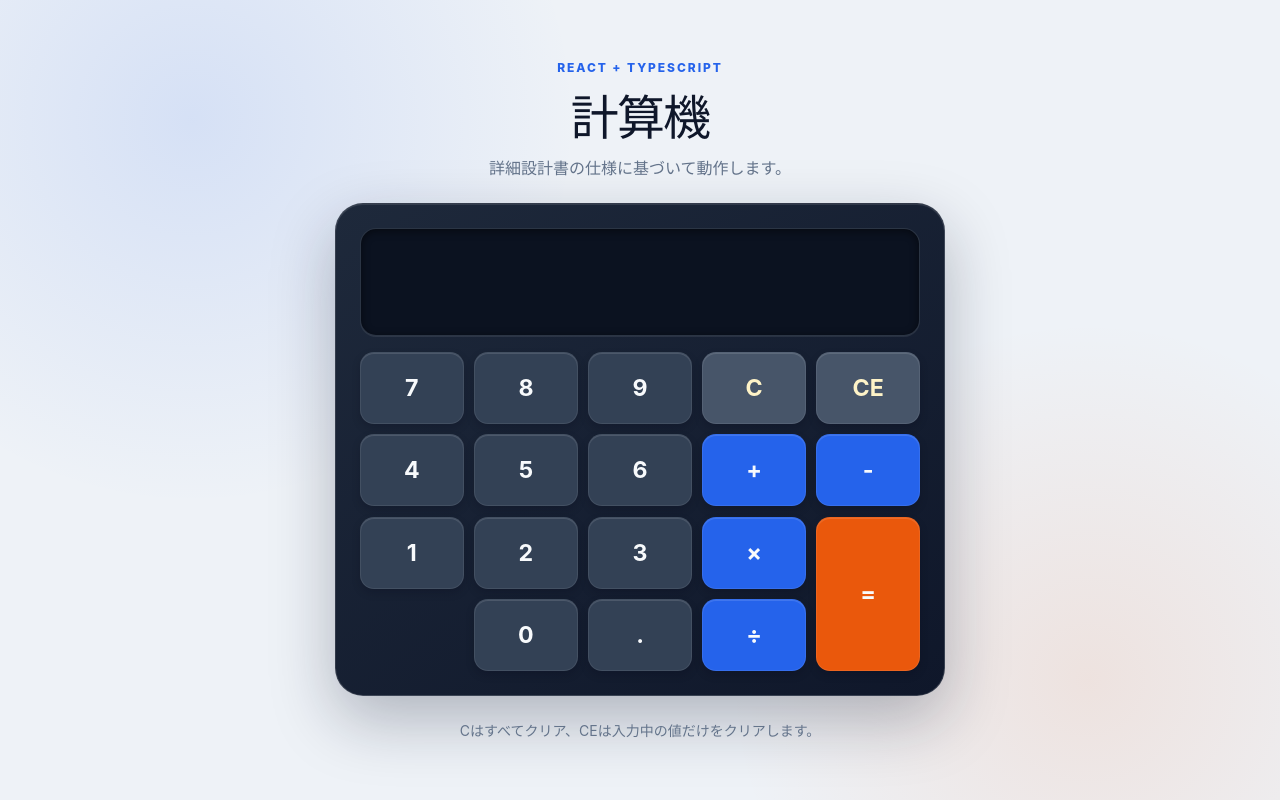
Test case: calculator application › 数字と加算を画面操作できる
Click the button named "数字1" at (412, 553), box left=360, top=517, right=464, bottom=589
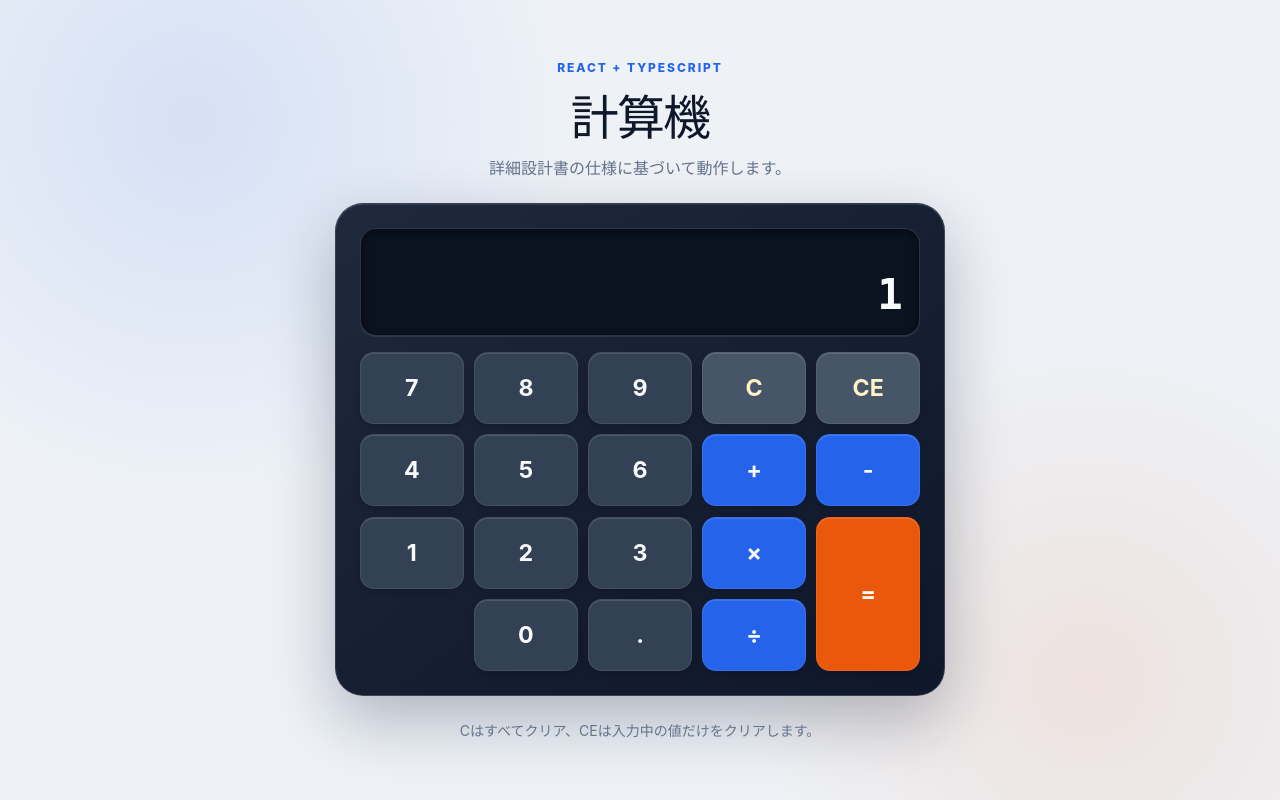
Click the button named "加算" at (754, 470), box left=702, top=434, right=806, bottom=506
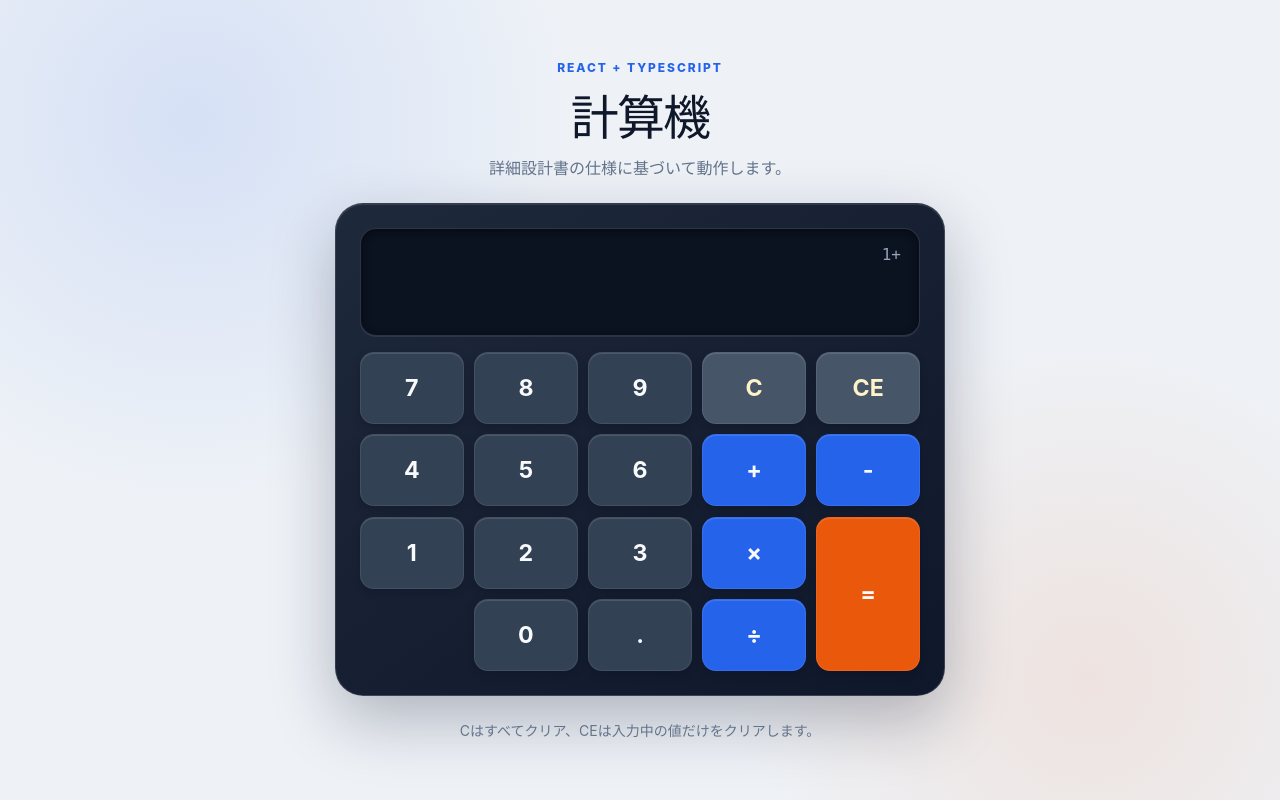
Click the button named "数字2" at (526, 553), box left=474, top=517, right=578, bottom=589
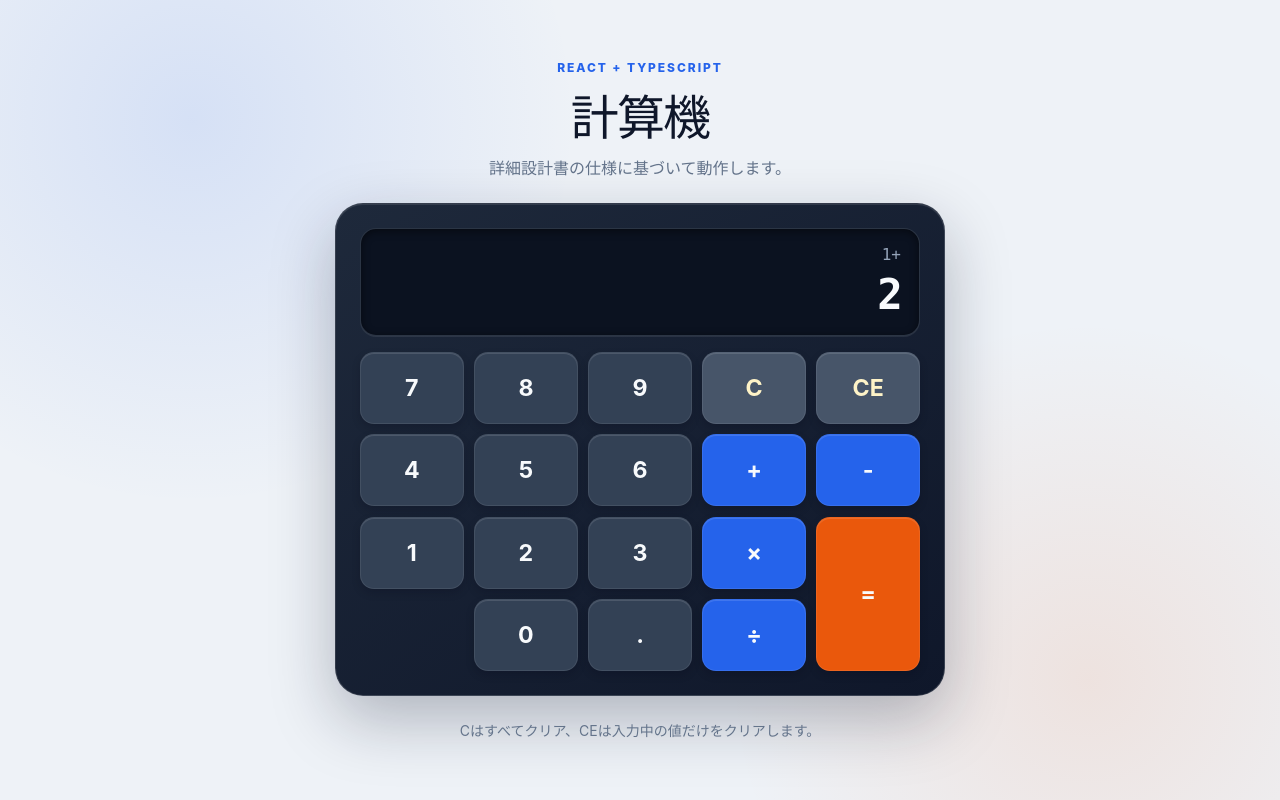
Click the button named "計算" at (868, 594), box left=816, top=517, right=920, bottom=671
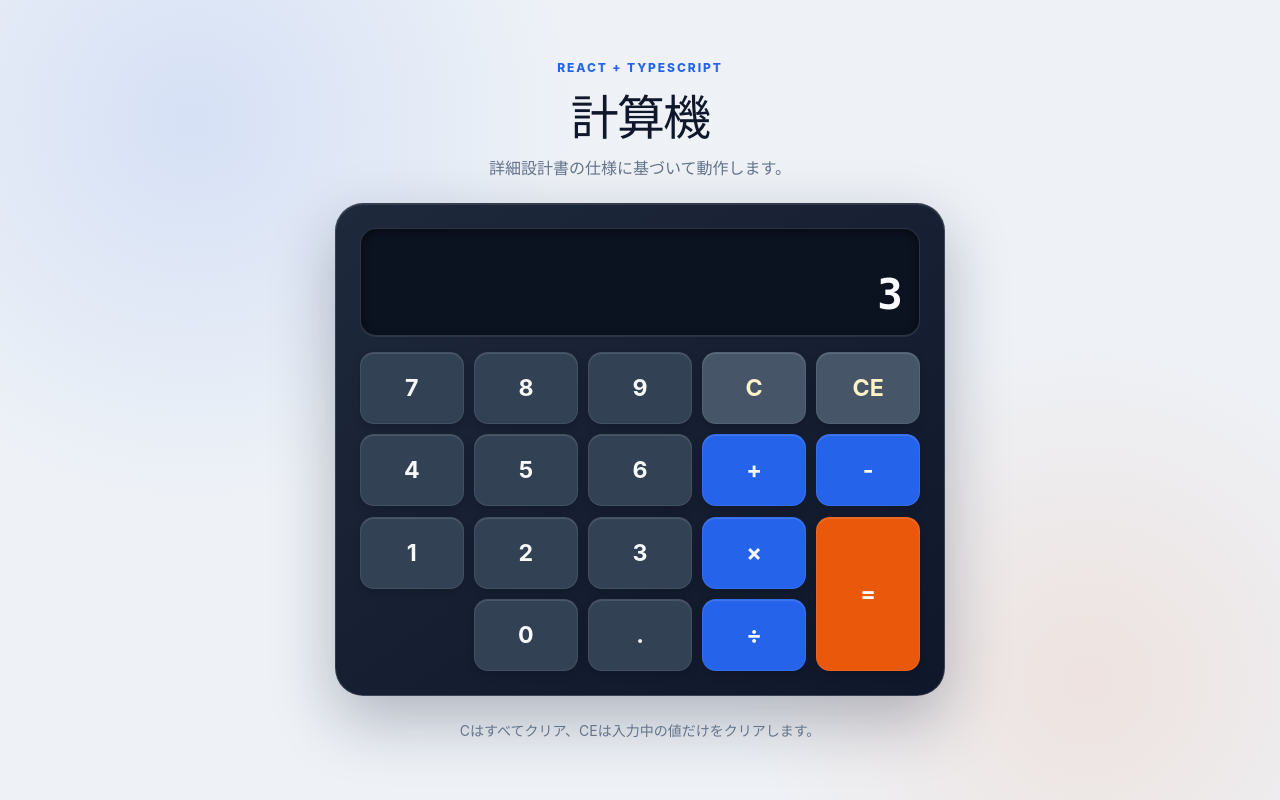
Check: the text named "計算2" reads "3", box left=877, top=270, right=901, bottom=319
